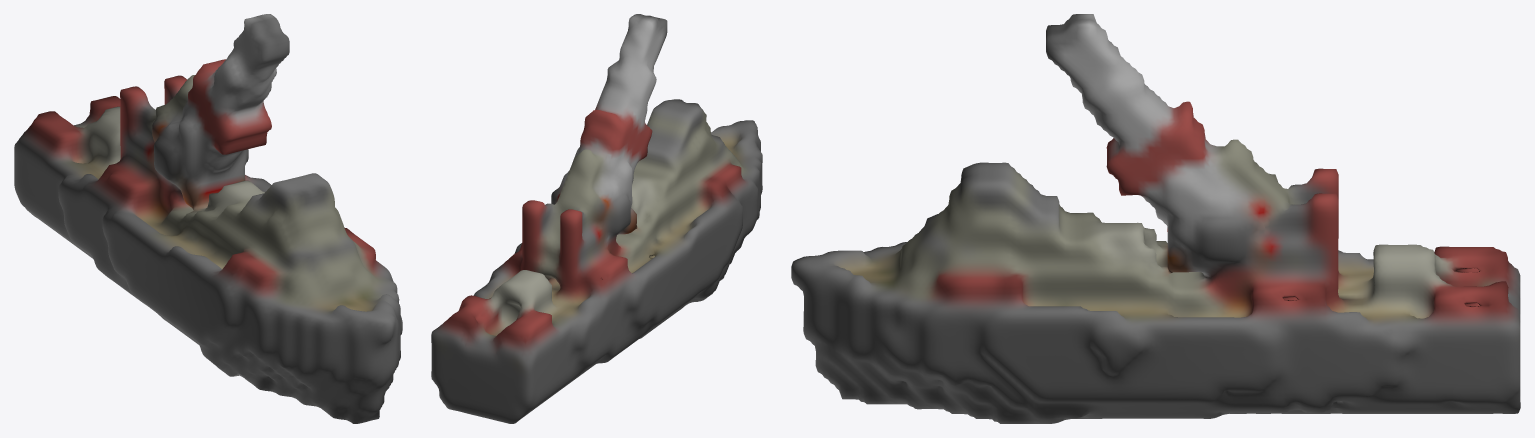
Rendered from hyd.glb.
3 renders of one model, left to right at view 1: azimuth 30°, elevation 25°; view 2: azimuth 150°, elevation 25°; view 3: azimuth 270°, elevation 25°, orthographic. The views are drawn at different scales.
Parts seen in each view (by area): view 1: hyd; view 2: hyd; view 3: hyd.
Part boxes in pixels (bbox=[...]): hyd: bbox=[14, 14, 402, 423]; hyd: bbox=[431, 14, 762, 423]; hyd: bbox=[791, 14, 1520, 423].
Size of the model in its own units: 1.43 by 2.8 by 4.93.
